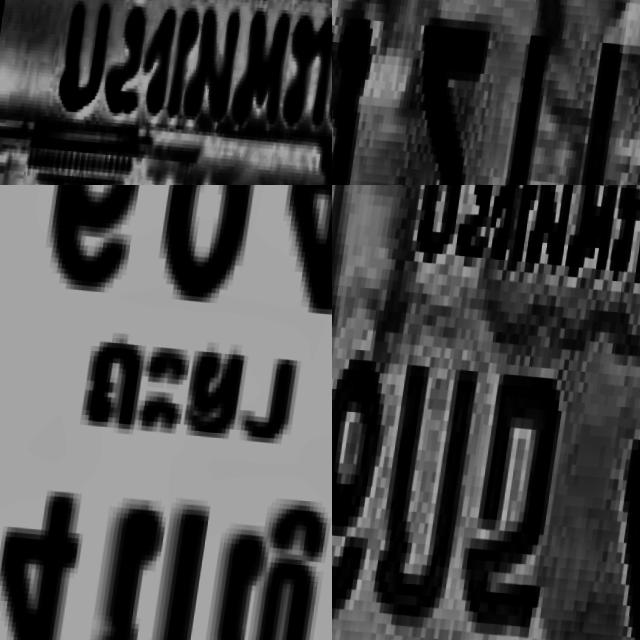license-plate: (0, 185, 332, 640), (332, 185, 640, 640), (0, 0, 332, 185), (332, 0, 640, 185)
